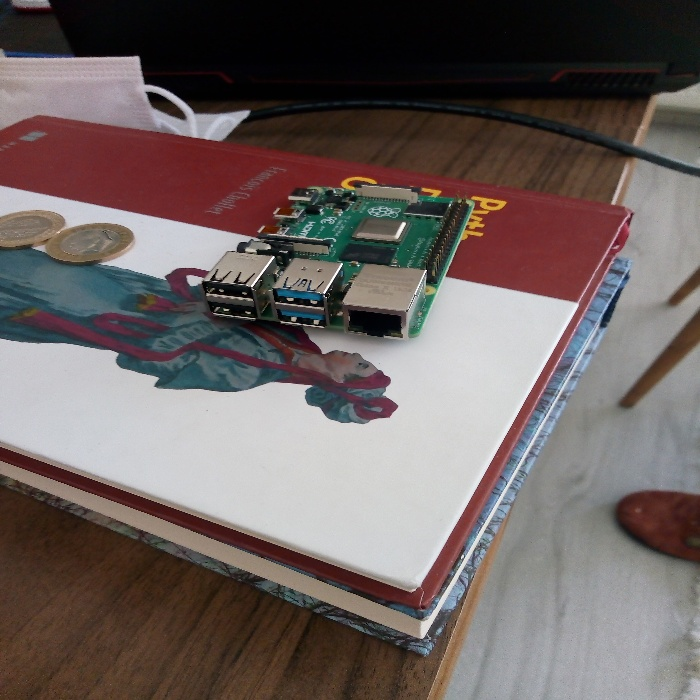raspberry: (204, 158, 487, 342)
